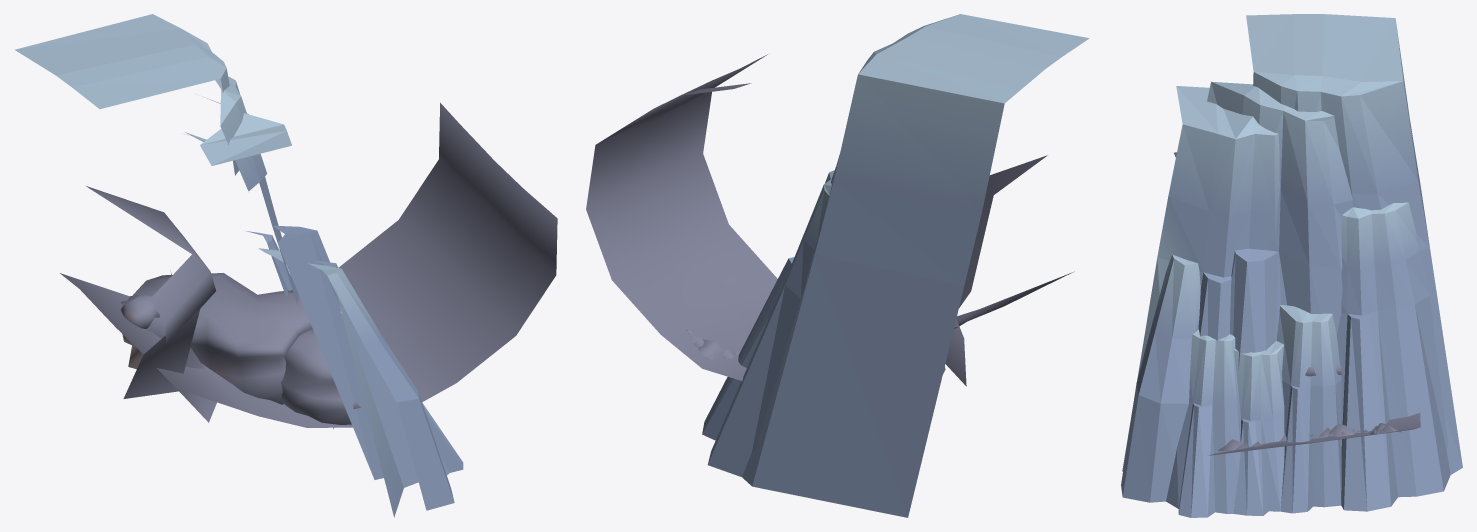
The model's file is Arctic_Luge_TunnelObstacle_Right_Mid_B.glb.
3 views of the same model, side by side, from view 1: azimuth 30°, elevation 25°; view 2: azimuth 150°, elevation 25°; view 3: azimuth 270°, elevation 25° (orthographic). The views are drawn at different scales.
Parts seen in each view (by area): view 1: Arctic_Luge_TunnelObstacle_Right_Mid_B, Arctic_Narrows_Right_IceWall_A02, Arctic_Narrows_Right_IceWall_A02_Left, Arctic_Narrows_Right_IceWall_A02_Right; view 2: Arctic_Narrows_Right_IceWall_A02, Arctic_Luge_TunnelObstacle_Right_Mid_B, Arctic_Narrows_Right_IceWall_A02_Right; view 3: Arctic_Narrows_Right_IceWall_A02, Arctic_Narrows_Right_IceWall_A02_Right, Arctic_Narrows_Right_IceWall_A02_Left, Arctic_Narrows_Right_IceWall_A02_Mid, Arctic_Luge_TunnelObstacle_Right_Mid_B.
Boxes of the visible parts, x1,y1,x2,y2 form: Arctic_Luge_TunnelObstacle_Right_Mid_B: [60, 102, 557, 427]; Arctic_Narrows_Right_IceWall_A02: [14, 14, 418, 517]; Arctic_Narrows_Right_IceWall_A02_Left: [308, 263, 463, 510]; Arctic_Narrows_Right_IceWall_A02_Right: [184, 132, 333, 429]; Arctic_Narrows_Right_IceWall_A02: [742, 14, 1089, 517]; Arctic_Luge_TunnelObstacle_Right_Mid_B: [586, 54, 1074, 386]; Arctic_Narrows_Right_IceWall_A02_Right: [702, 170, 834, 476]; Arctic_Narrows_Right_IceWall_A02: [1122, 14, 1462, 474]; Arctic_Narrows_Right_IceWall_A02_Right: [1336, 202, 1450, 511]; Arctic_Narrows_Right_IceWall_A02_Left: [1121, 254, 1240, 517]; Arctic_Narrows_Right_IceWall_A02_Mid: [1233, 305, 1341, 515]; Arctic_Luge_TunnelObstacle_Right_Mid_B: [1174, 152, 1420, 455].
Size of what is drawn, in the model's own units: 5.11 by 4.78 by 4.09.
